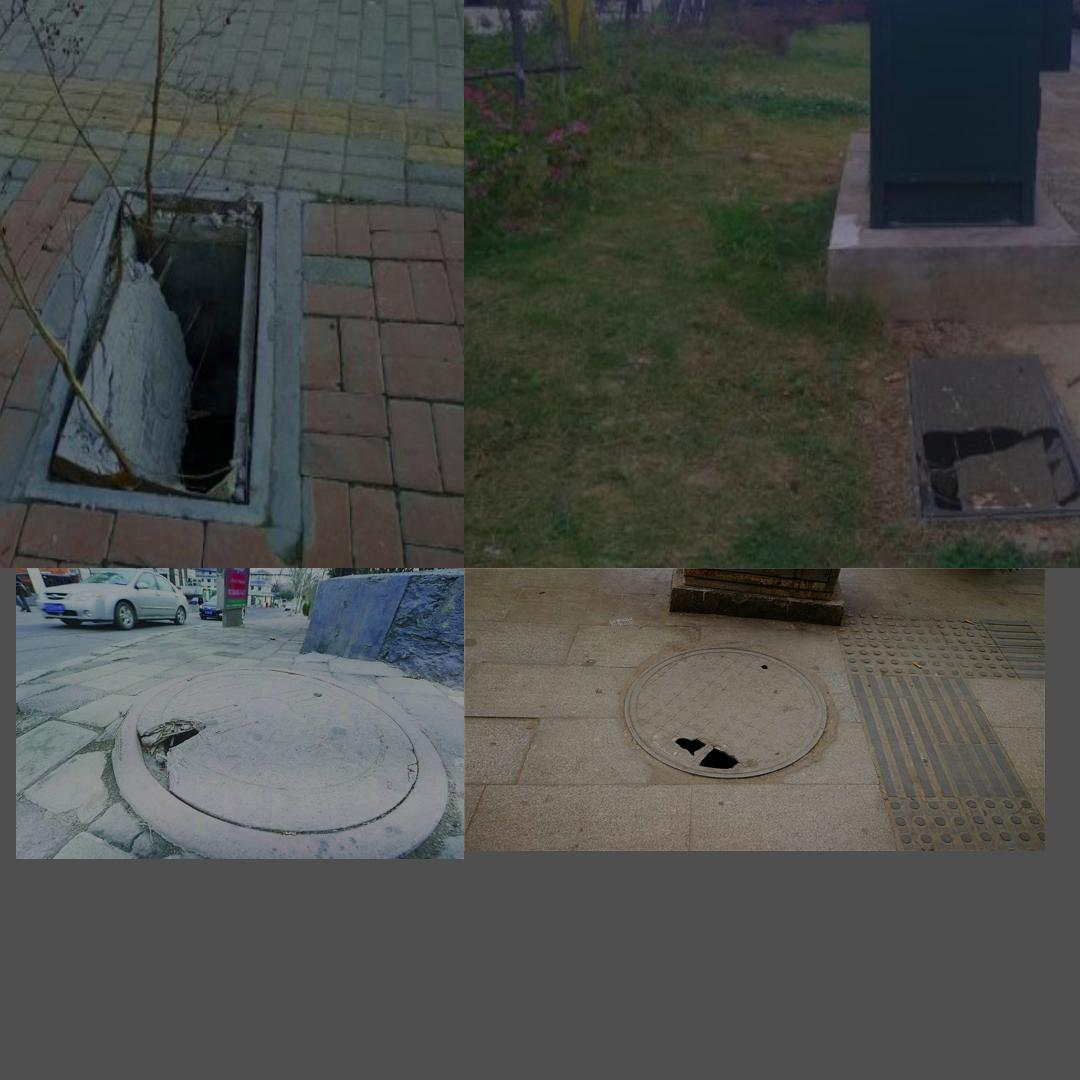broke: (19, 186, 279, 528), (137, 668, 419, 834), (903, 348, 1080, 526), (623, 646, 826, 780)
